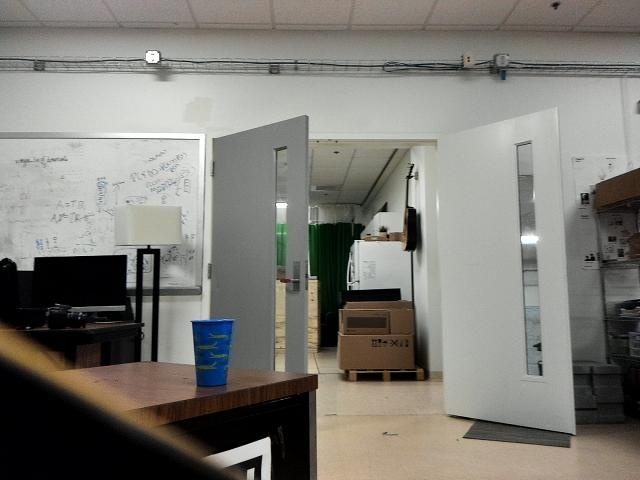water_cup: (188, 314, 238, 395)
